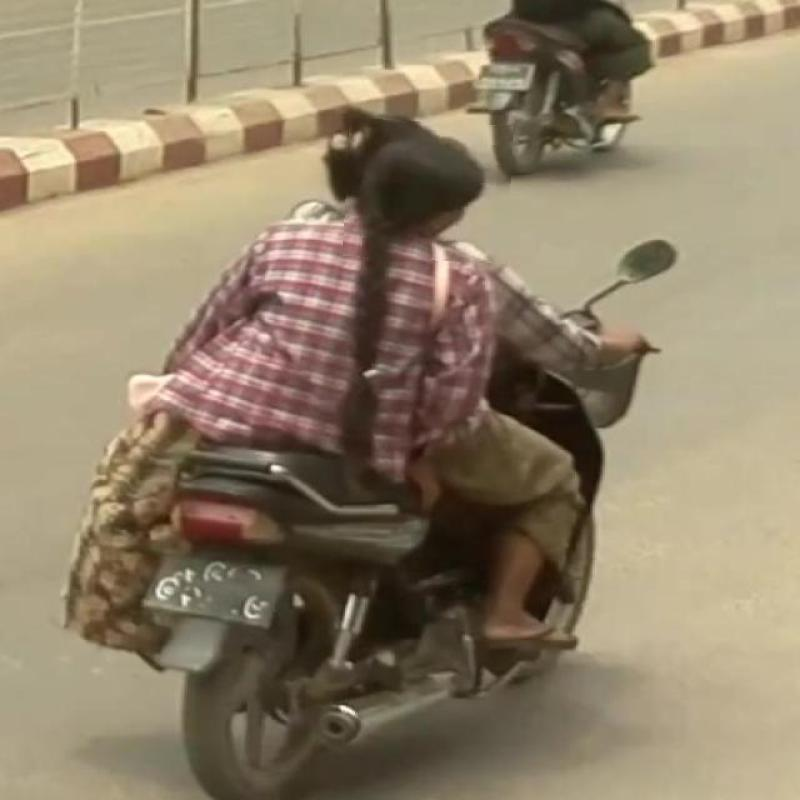nohelmet: (344, 119, 512, 262)
